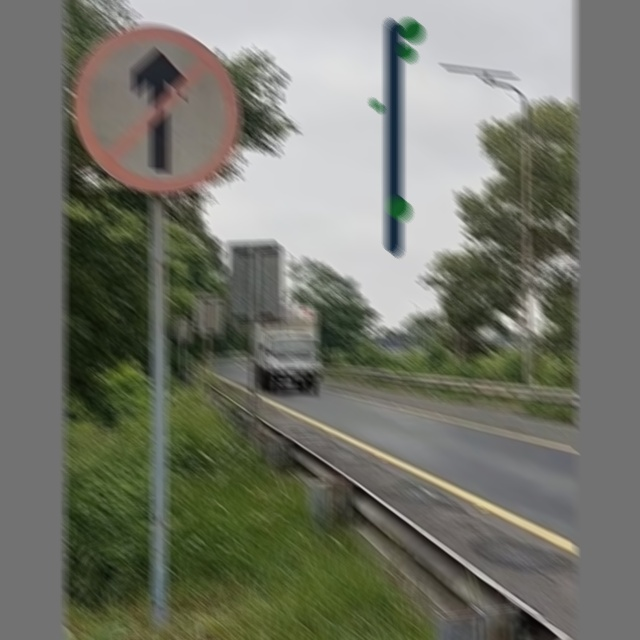No_Entry: (75, 27, 242, 190)
